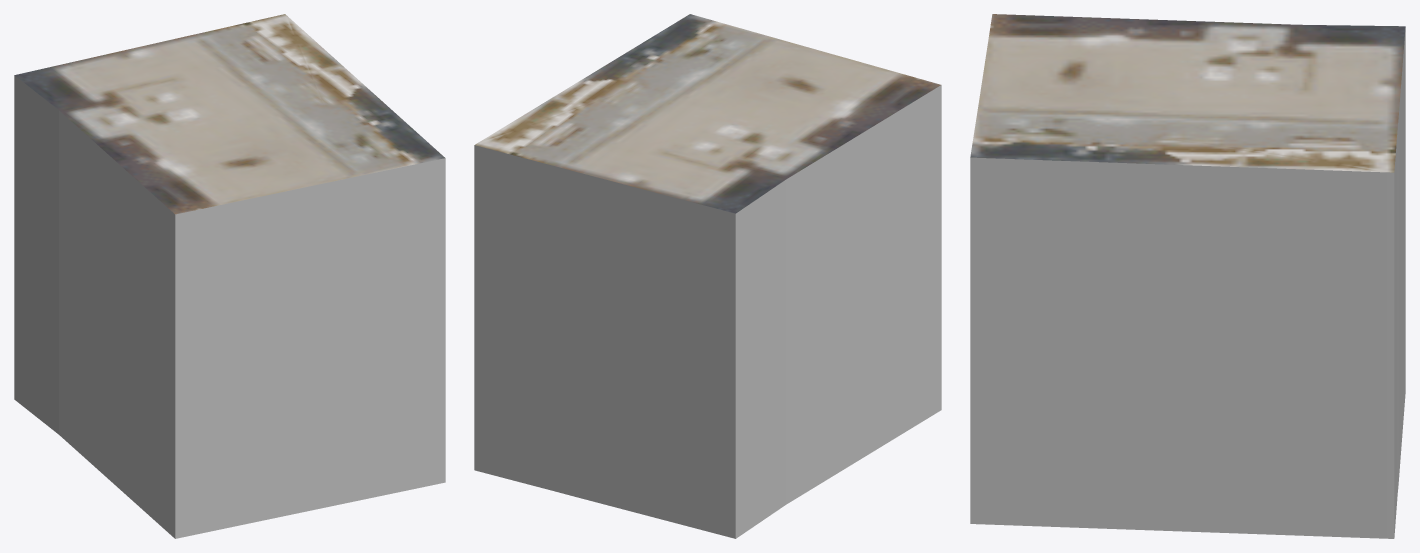
Rendered from DEBW_0010007Tx7y.gltf.
3 views of the same model, side by side, from view 1: azimuth 30°, elevation 25°; view 2: azimuth 150°, elevation 25°; view 3: azimuth 270°, elevation 25° (orthographic). The views are drawn at different scales.
Parts seen in each view (by area): view 1: Z_UP; view 2: Z_UP; view 3: Z_UP.
Part boxes in pixels (x1=…): Z_UP: x1=14, y1=14, x2=445, y2=538; Z_UP: x1=474, y1=14, x2=941, y2=538; Z_UP: x1=970, y1=14, x2=1405, y2=538.
Bounding box in the file's own units: 16.04 × 17.27 × 18.6.
Materials: 2 (1 with a texture image).
